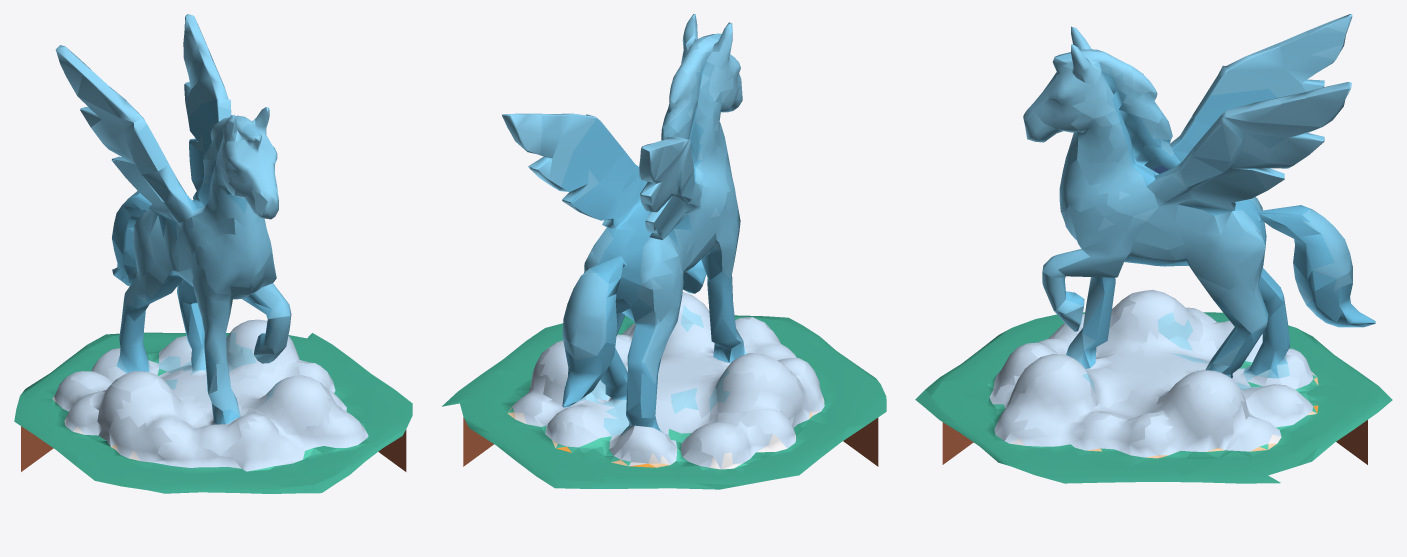
The model's file is pegasus.glb.
3 views of the same model, side by side, from view 1: azimuth 30°, elevation 25°; view 2: azimuth 150°, elevation 25°; view 3: azimuth 270°, elevation 25° (orthographic). The views are drawn at different scales.
Parts seen in each view (by area): view 1: recentre, hexBase; view 2: recentre, hexBase; view 3: recentre, hexBase.
Boxes of the visible parts, x1,y1,x2,y2 form: recentre: (14, 14, 412, 493); hexBase: (21, 426, 406, 471); recentre: (442, 14, 886, 489); hexBase: (463, 417, 878, 466); recentre: (915, 14, 1392, 483); hexBase: (942, 420, 1367, 464).
Bounding box in the file's own units: 1.1 × 1.29 × 1.3.
3 materials, 3 textured.
